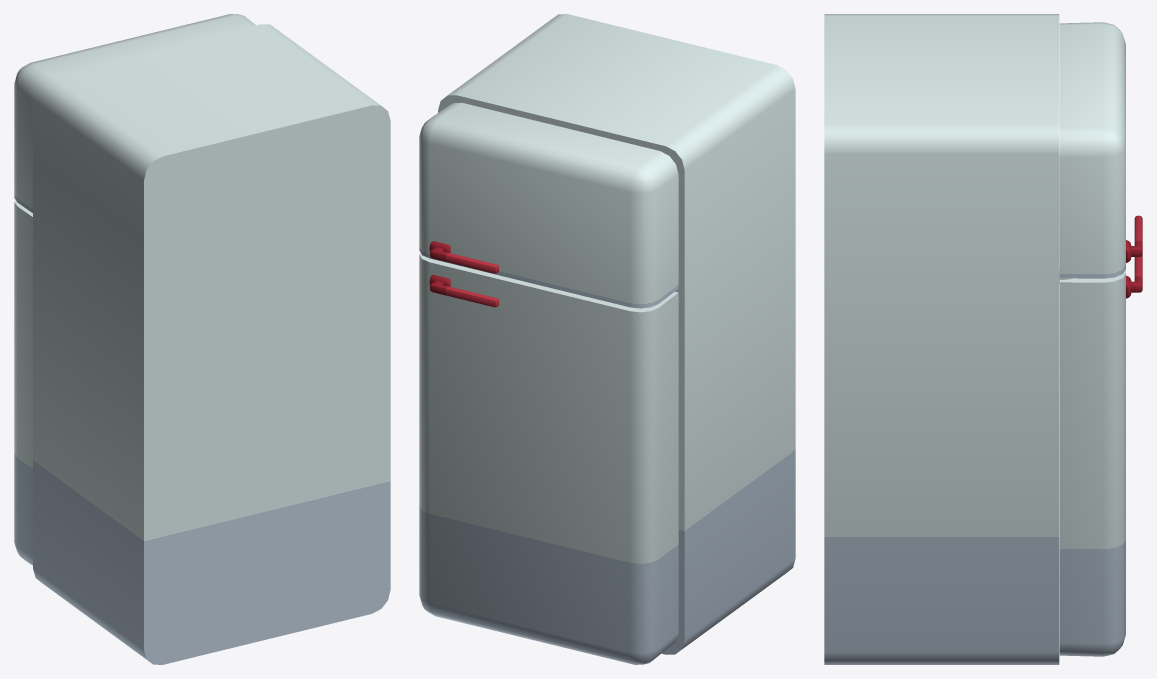
The model's file is heladera.fbx.
The picture shows the model from 3 angles, left to right: view 1: azimuth 30°, elevation 25°; view 2: azimuth 150°, elevation 25°; view 3: azimuth 270°, elevation 25°; orthographic projection. The views are drawn at different scales.
Visible parts, largest first — view 1: heladera.001, Cube.004, Cube.003; view 2: Cube.004, heladera.001, Cube.003; view 3: heladera.001, Cube.004, Cube.003.
Boxes of the visible parts, box(x1,y1,x2,y2) form: heladera.001: box(33, 24, 390, 664); Cube.004: box(14, 200, 32, 565); Cube.003: box(14, 14, 255, 212); Cube.004: box(419, 253, 678, 664); heladera.001: box(438, 14, 795, 654); Cube.003: box(419, 102, 678, 308); heladera.001: box(824, 14, 1059, 664); Cube.004: box(1059, 255, 1142, 656); Cube.003: box(1059, 22, 1142, 278).
Size of the model in its own units: 200 by 394 by 211.
